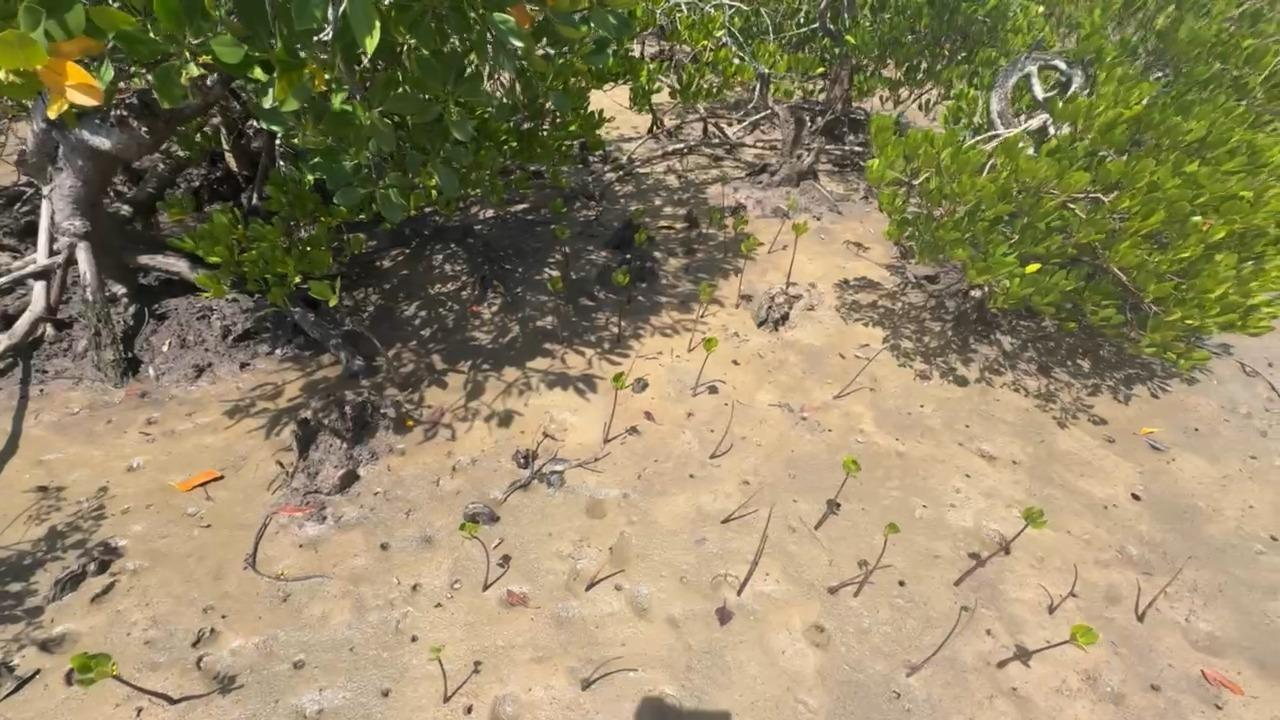Tree: (905, 597, 978, 678), (71, 652, 177, 704), (736, 502, 775, 596), (984, 506, 1050, 561), (833, 347, 888, 399), (684, 207, 722, 273), (1029, 622, 1103, 655), (1138, 568, 1181, 620), (459, 521, 490, 593), (687, 282, 716, 353), (829, 564, 894, 594), (734, 235, 760, 309), (767, 195, 798, 255), (785, 220, 811, 290), (603, 371, 627, 443), (870, 522, 902, 573), (692, 337, 719, 397), (708, 399, 735, 459), (581, 656, 625, 692), (611, 265, 631, 343), (1049, 562, 1078, 615), (830, 458, 862, 506), (545, 277, 566, 343), (720, 490, 757, 524), (427, 646, 448, 704), (716, 168, 731, 225), (553, 225, 571, 269), (547, 196, 569, 225), (584, 563, 604, 592), (732, 210, 749, 242)
